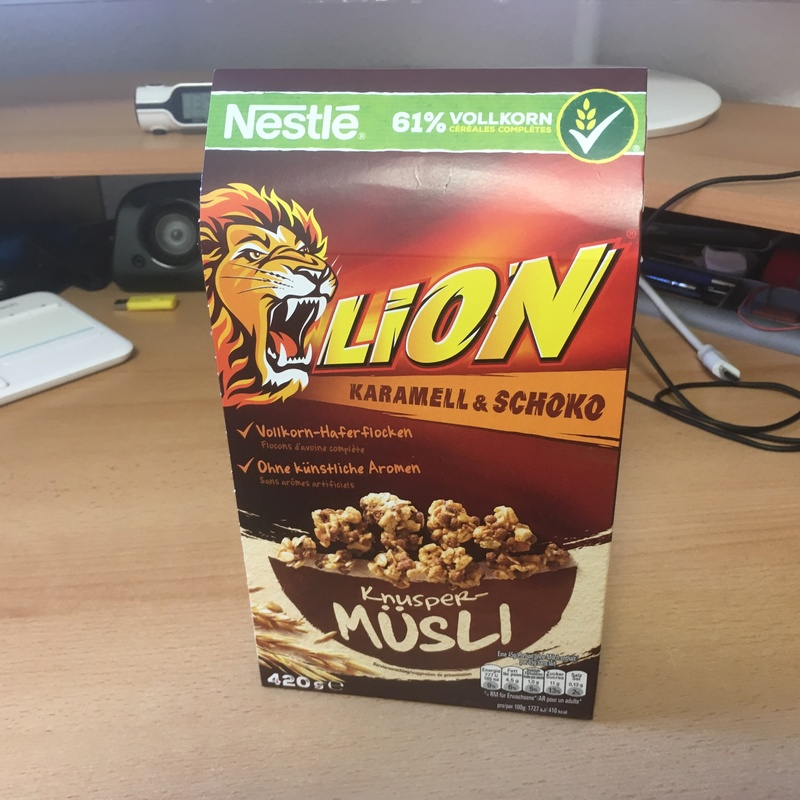cereals: (199, 66, 647, 723)
